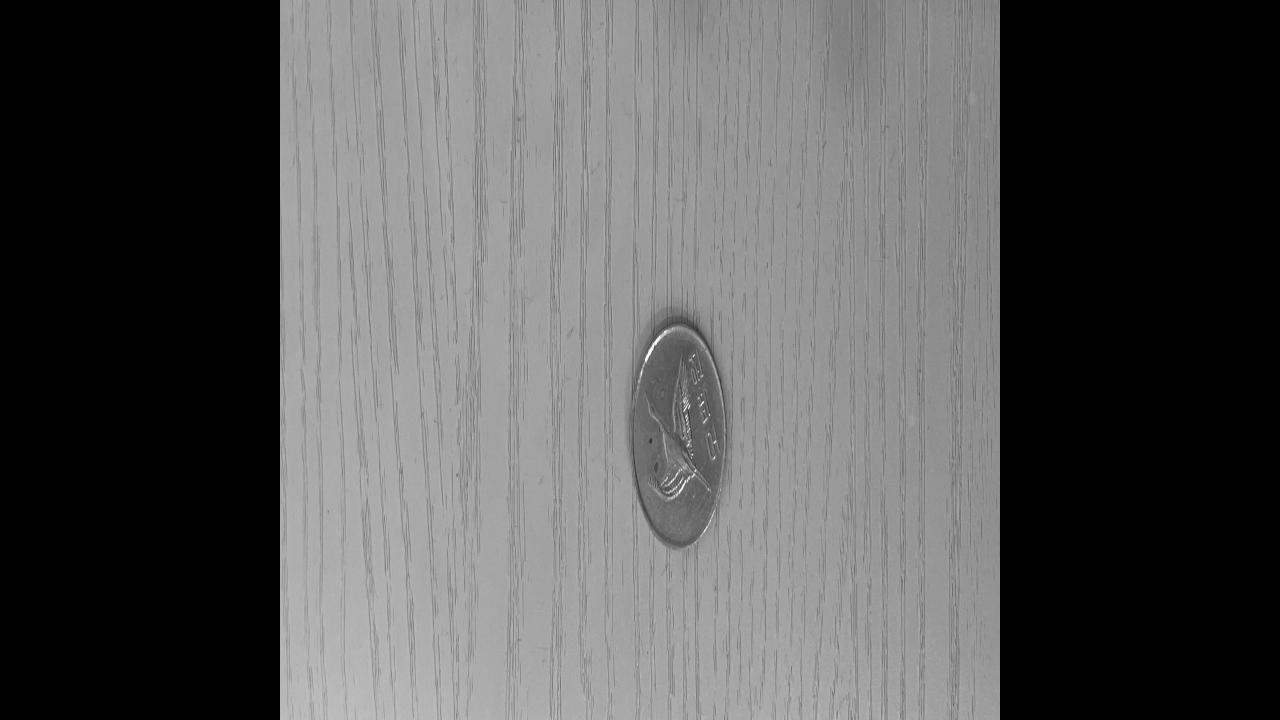coin: (628, 312, 728, 556)
